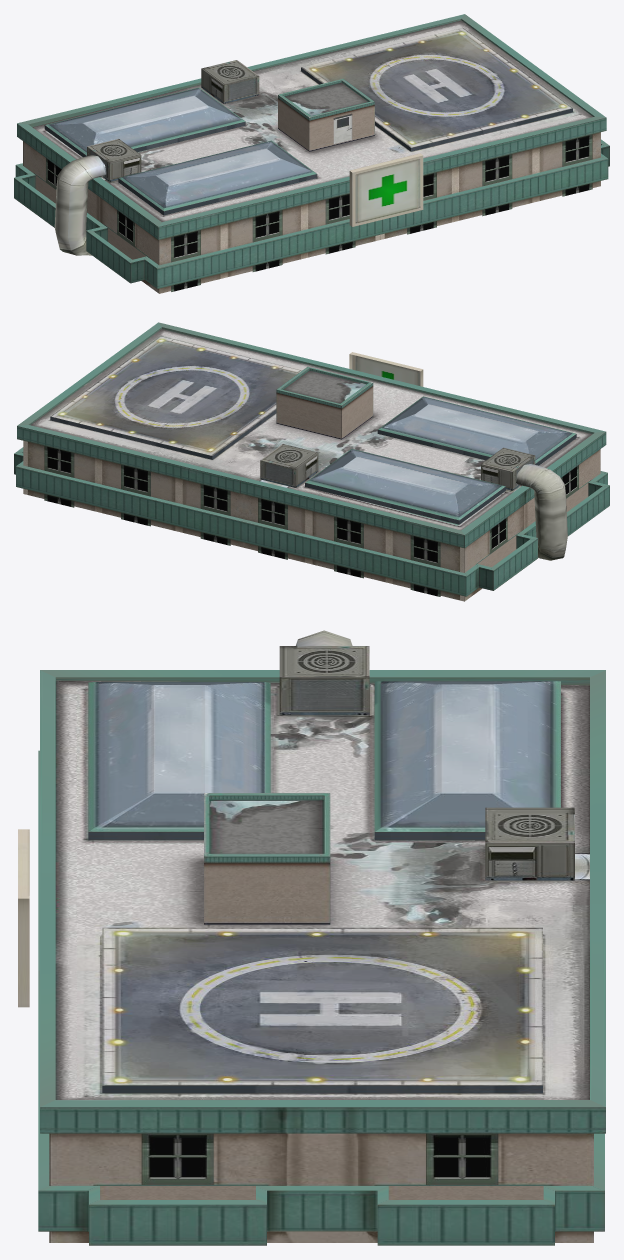
Rendered from clinic-roof.glb.
The picture shows the model from 3 angles, top to bottom: view 1: azimuth 30°, elevation 25°; view 2: azimuth 150°, elevation 25°; view 3: azimuth 270°, elevation 25°; orthographic projection. The views are drawn at different scales.
Parts seen in each view (by area): view 1: Clinic upper facade and roof; view 2: Clinic upper facade and roof; view 3: Clinic upper facade and roof.
Boxes of the visible parts, <box> form: Clinic upper facade and roof: <box>14,14,609,293</box>; Clinic upper facade and roof: <box>14,322,609,601</box>; Clinic upper facade and roof: <box>18,630,605,1245</box>.
Size of the model in its own units: 14 by 2.75 by 7.2.
1 material, 1 textured.
